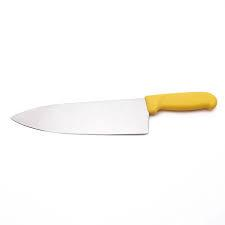Knife: (9, 90, 217, 135)
